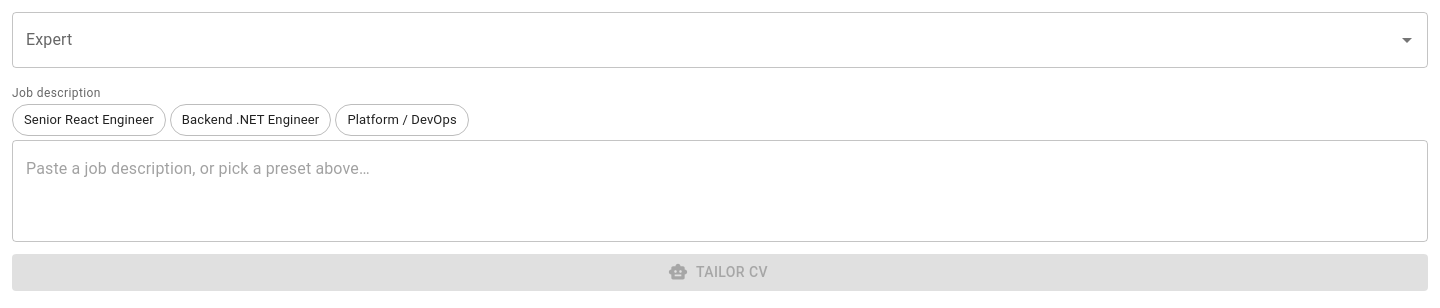
Test: the cv-tailoring expert picker › offers published experts and not the Draft the ingest agent staged
Click the dropdown labelled "Expert": (705, 40) [21, 21, 1389, 59]
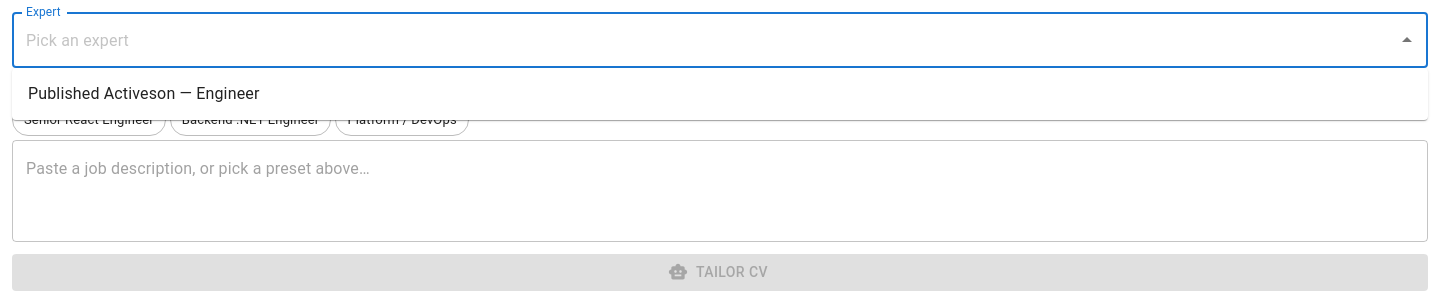
Result: the option "Published Activeson — Engineer" is shown at [28, 84, 260, 103]
